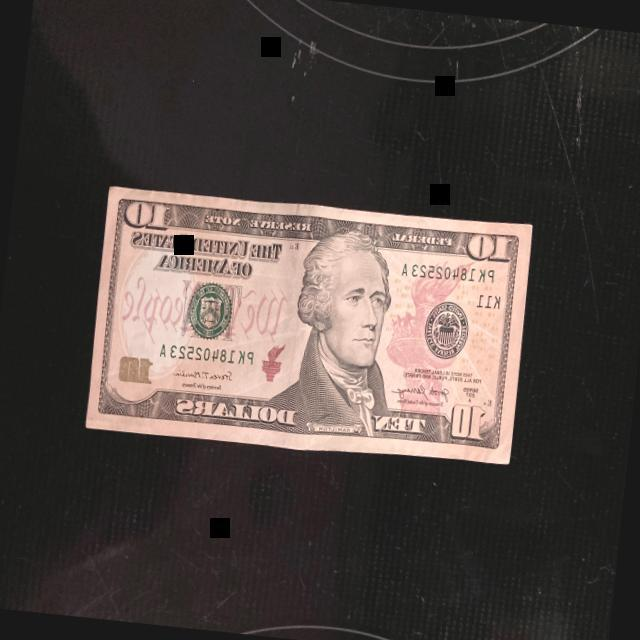ten: (82, 180, 534, 471)
